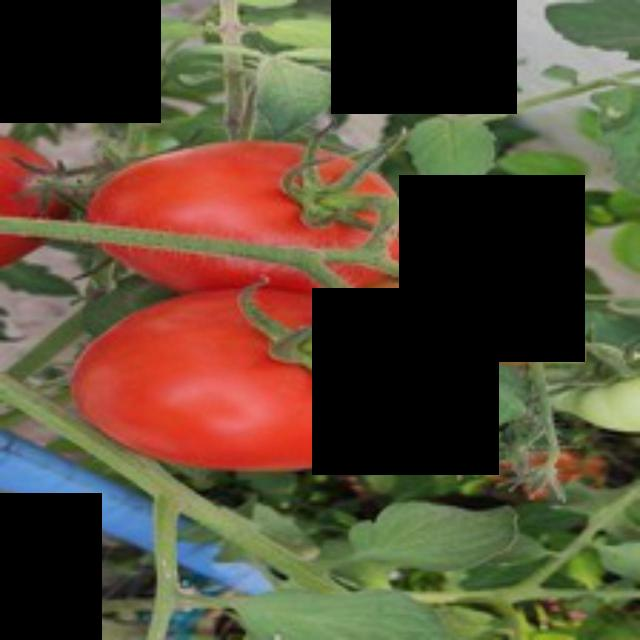tomato: (51, 277, 432, 473), (89, 132, 422, 316)
